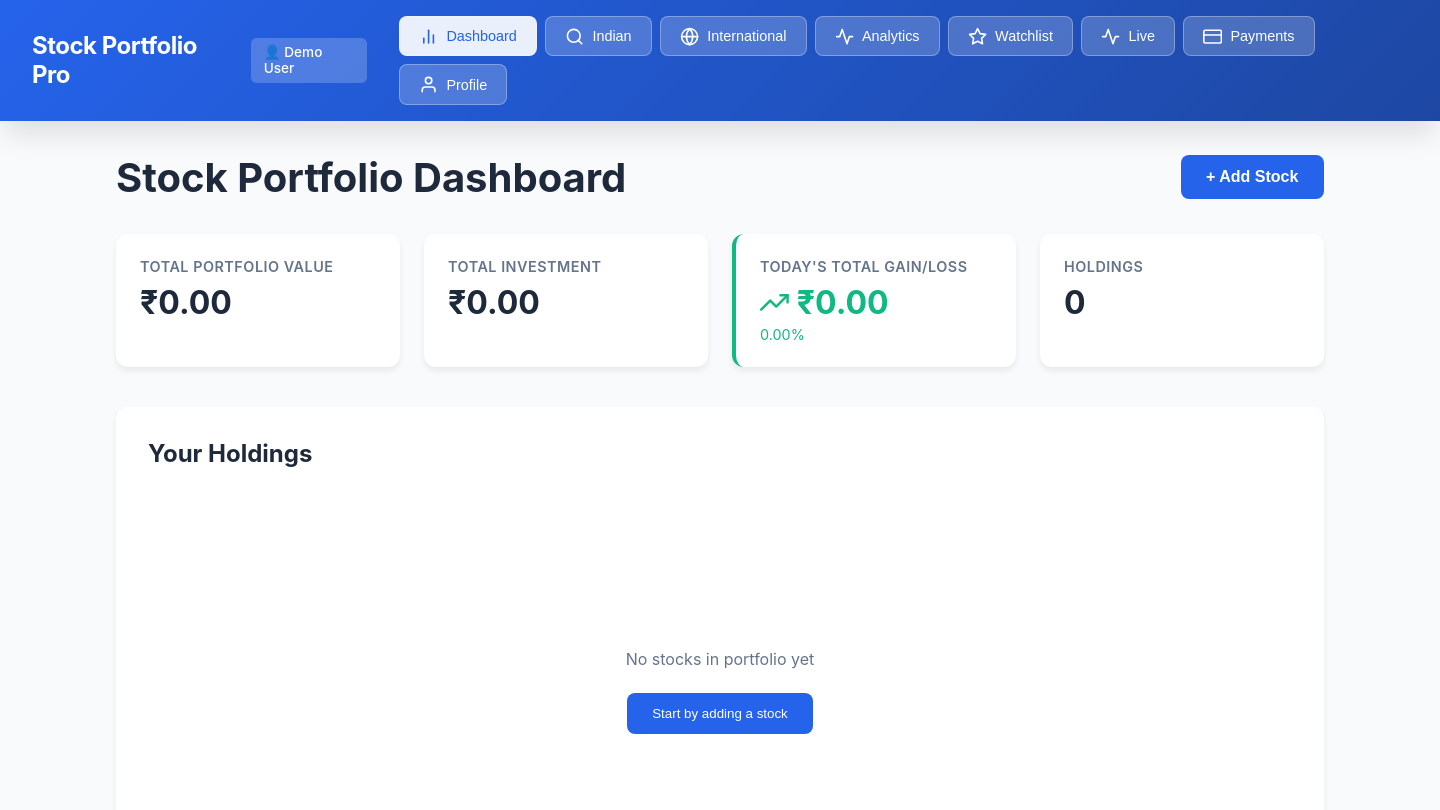
Test case: shows a demo payment history page from the main nav
Click the button "Payments" at coordinates (1249, 36), box [1183,16,1315,56]
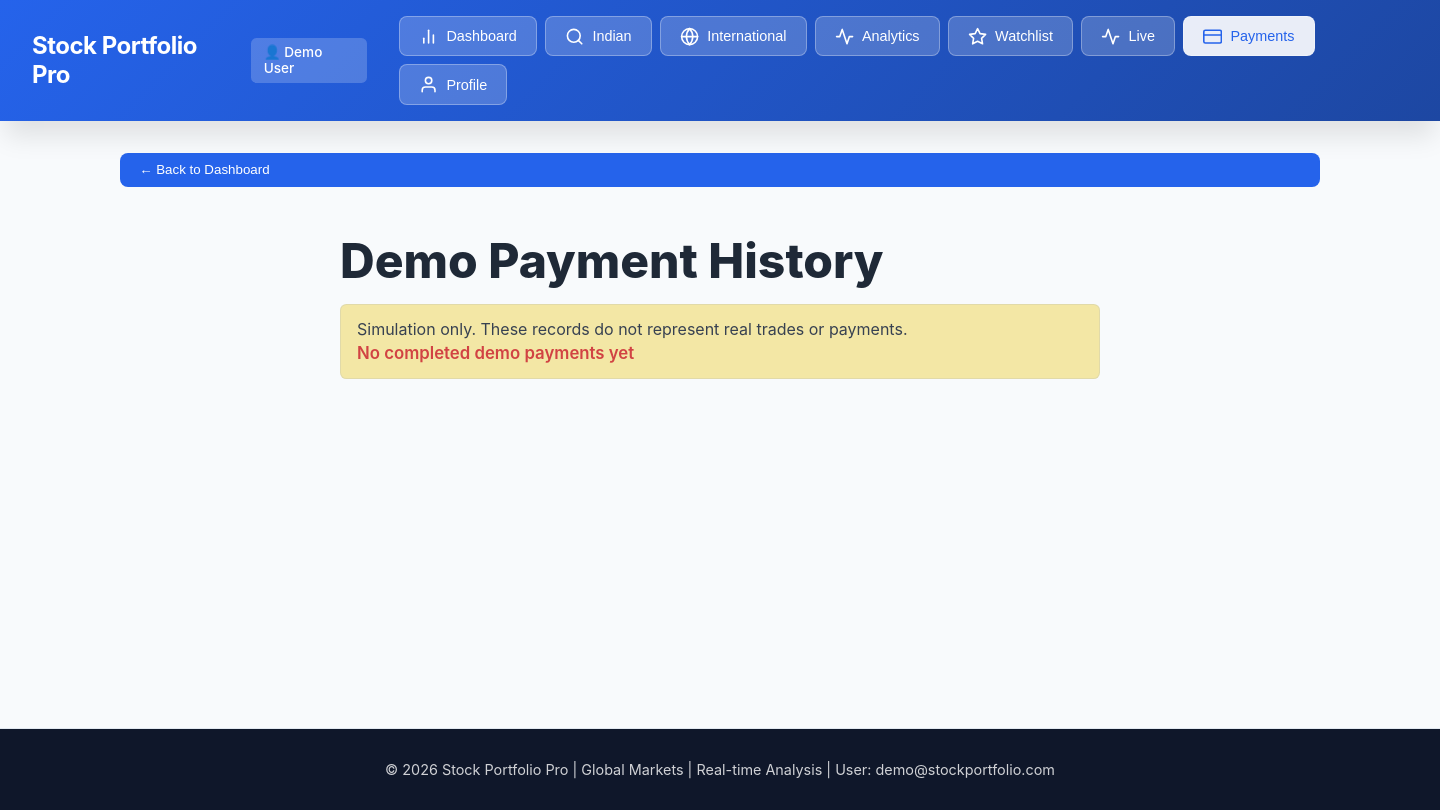
expect the heading "Demo Payment History" is shown: met, box [340,231,884,290]
expect the text "No completed demo payments yet" is shown: met, box [357,343,634,363]
